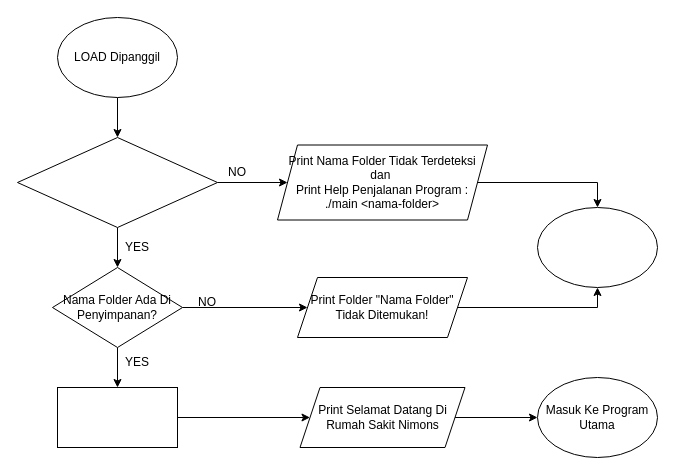
Some shapes in this 675 by 475 pixel diagram are drawn without their labels. The centre of each missing label's shape, as x and y in pixels:
"File Eksternal di Folder di Pindai dan Disimpan di Database Program Utama" goes at (117,417).
"Program Dijalankan Dengan Argumen Nama Folder File EKsternal?" goes at (117,182).
"Program Utama Gagal Dijalankan" goes at (597,247).
